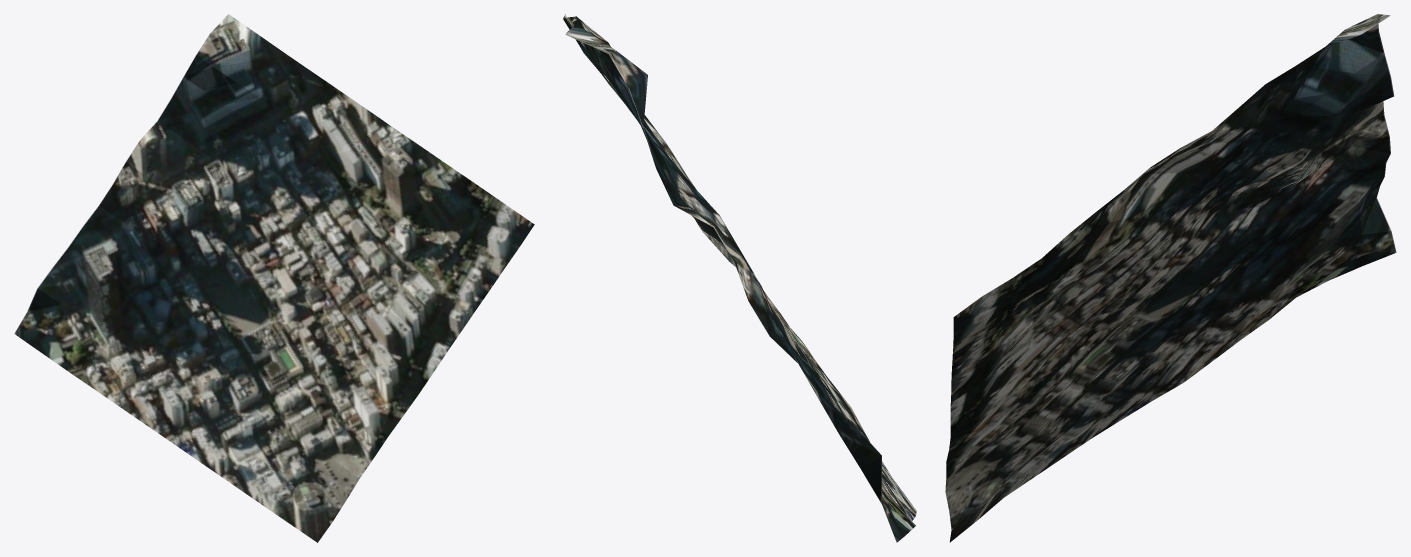
3 renders of one model, left to right at view 1: azimuth 30°, elevation 25°; view 2: azimuth 150°, elevation 25°; view 3: azimuth 270°, elevation 25°, orthographic. The views are drawn at different scales.
Size of the model in its own units: 545 by 570 by 406.
1 material, 1 textured.
